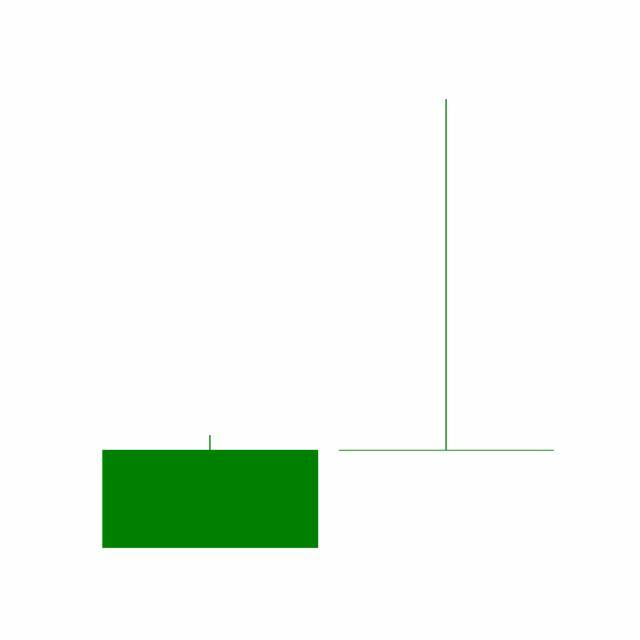Gravestone Doji: (328, 96, 566, 455)
